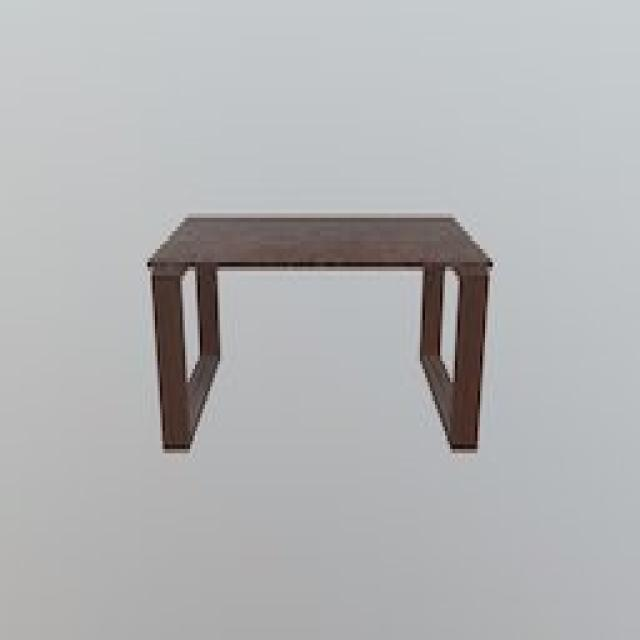table: (147, 211, 496, 463)
